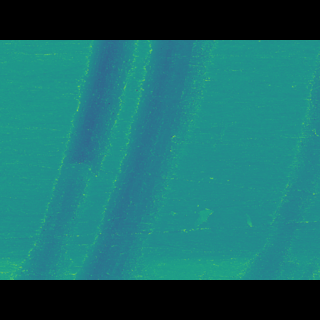Loch: (74, 69, 219, 251), (11, 69, 142, 250), (244, 89, 319, 251)
